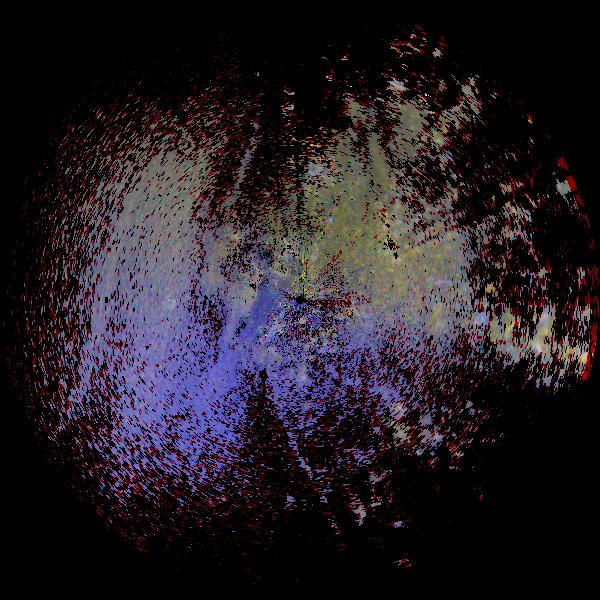roost: (345, 301, 372, 328), (291, 365, 312, 386)
